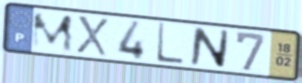4: (115, 19, 147, 62)
7: (234, 29, 267, 73)
L: (154, 21, 185, 67)
M: (29, 12, 75, 54)
N: (188, 25, 231, 70)
X: (74, 14, 110, 58)
